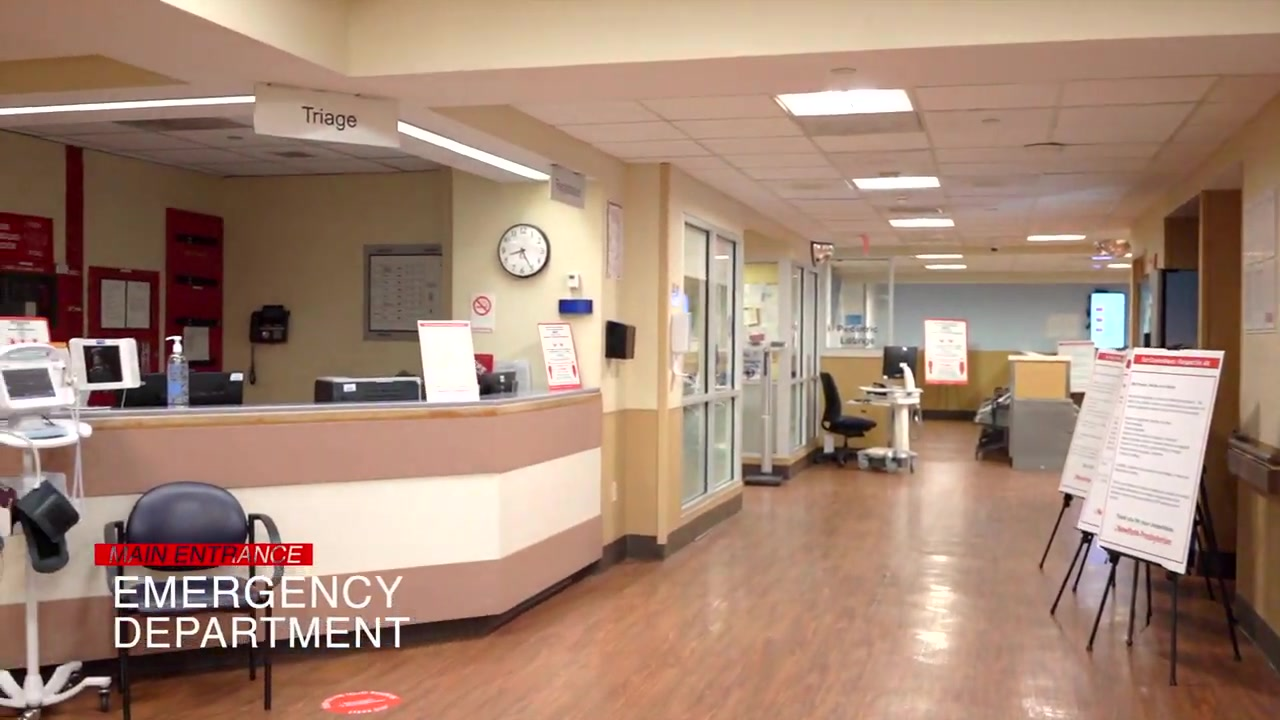chair: (103, 482, 285, 720), (808, 372, 877, 468)
computer: (117, 371, 243, 408), (882, 344, 921, 390)
counter: (4, 386, 604, 680), (1004, 354, 1071, 467)
dispenser: (165, 334, 191, 410), (672, 313, 692, 377)
hallway_assist_bar: (1225, 439, 1280, 494)
telephone: (247, 302, 291, 347)
